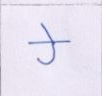e_matra: (39, 23, 56, 41)
